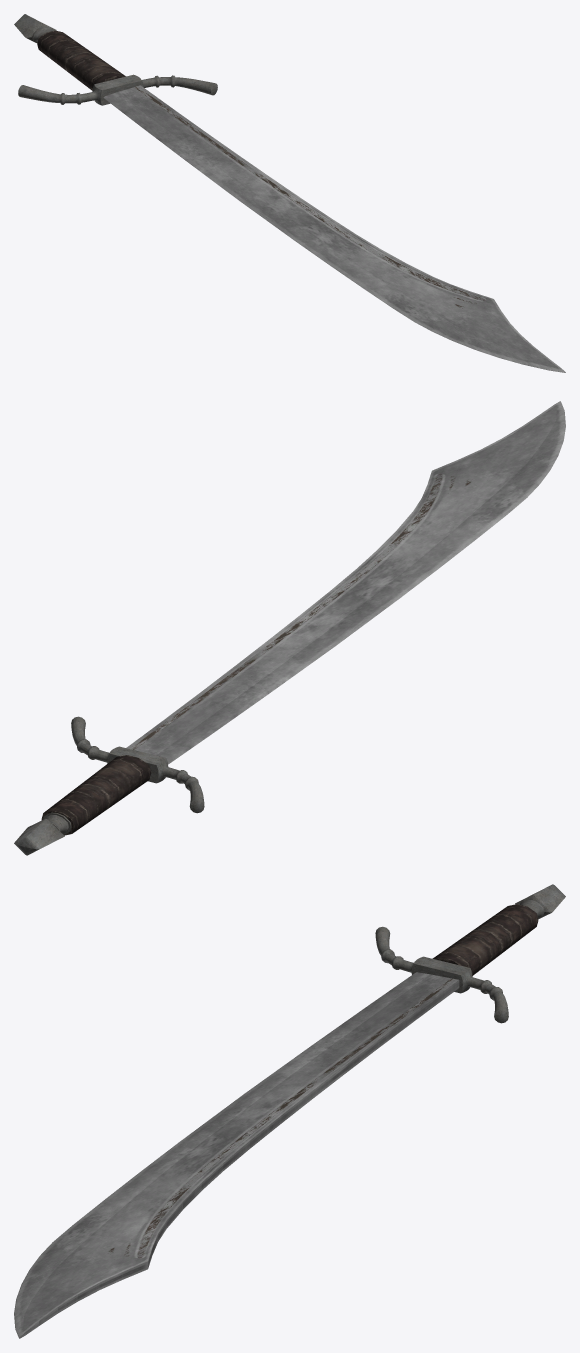
3 renders of one model, top to bottom at view 1: azimuth 30°, elevation 25°; view 2: azimuth 150°, elevation 25°; view 3: azimuth 330°, elevation 25°, orthographic. The views are drawn at different scales.
Visible parts, largest first — view 1: WP_A_0401; view 2: WP_A_0401; view 3: WP_A_0401.
Part boxes in pixels (bbox=[...]): WP_A_0401: bbox=[14, 14, 565, 372]; WP_A_0401: bbox=[14, 401, 565, 855]; WP_A_0401: bbox=[14, 884, 565, 1338].
Bounding box in the file's own units: 18.8 × 2.54 × 104.
Materials: 1 (1 with a texture image).
